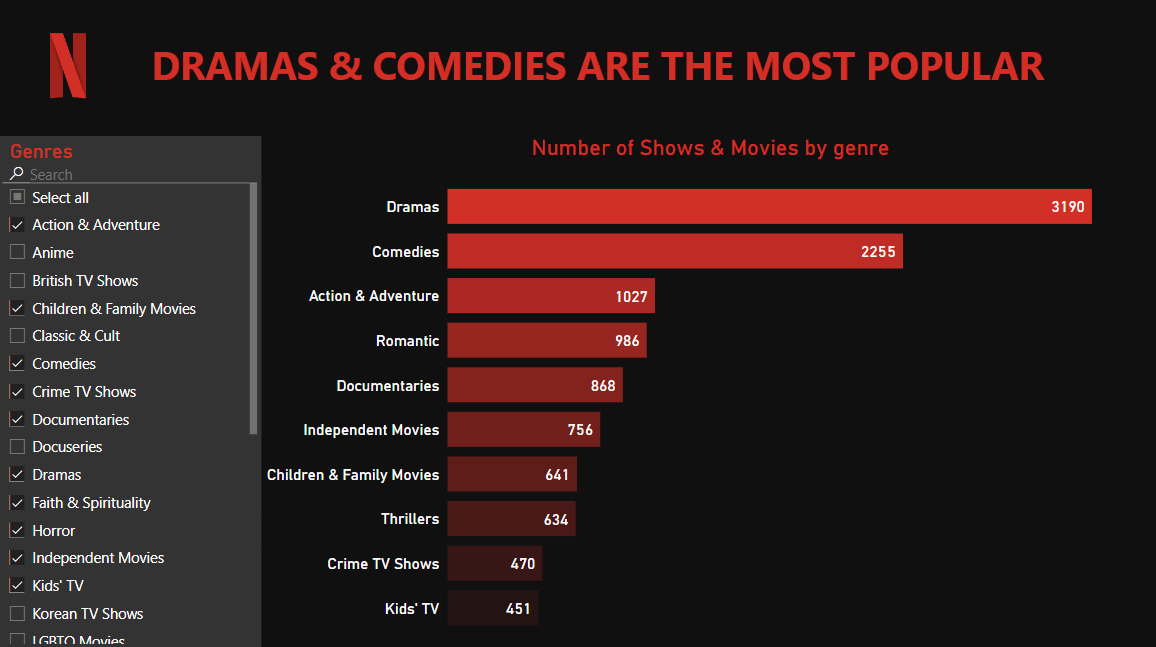

Layout of this report page (visuals, bound fields, positions):
{"tool":"powerbi","page":{"name":"Most present genres on Netflix","canvas":[1280,720],"ordinal":2},"visuals":[{"type":"image","box":[0,0,153.7,153.7],"z":0},{"type":"textbox","box":[154.3,41.3,1012.9,73],"z":1000},{"type":"barChart","title":"Number of Shows & Movies by genre","fields":{"Y":["Count(netflix_titles.show_id)"],"Category":["Distinct Genres.Genres_cleaned"]},"box":[290.8,153,989.5,566.4],"z":2000},{"type":"slicer","fields":{"Values":["Distinct Genres.Genres Cleaned"]},"box":[0,154.3,290.8,565],"z":3000}]}

Visuals, with their boxes on the page's 1280x720 design canvas (x1, y1, x2, y2). These are canvas units, not pixel positions in the 1156x647 screenshot, which may show the page scaled, cropped or inside an application window:
image: crop(0, 0, 154, 154)
textbox: crop(154, 41, 1167, 114)
"Number of Shows & Movies by genre" barChart: crop(291, 153, 1280, 719)
slicer - Distinct Genres.Genres Cleaned: crop(0, 154, 291, 719)
